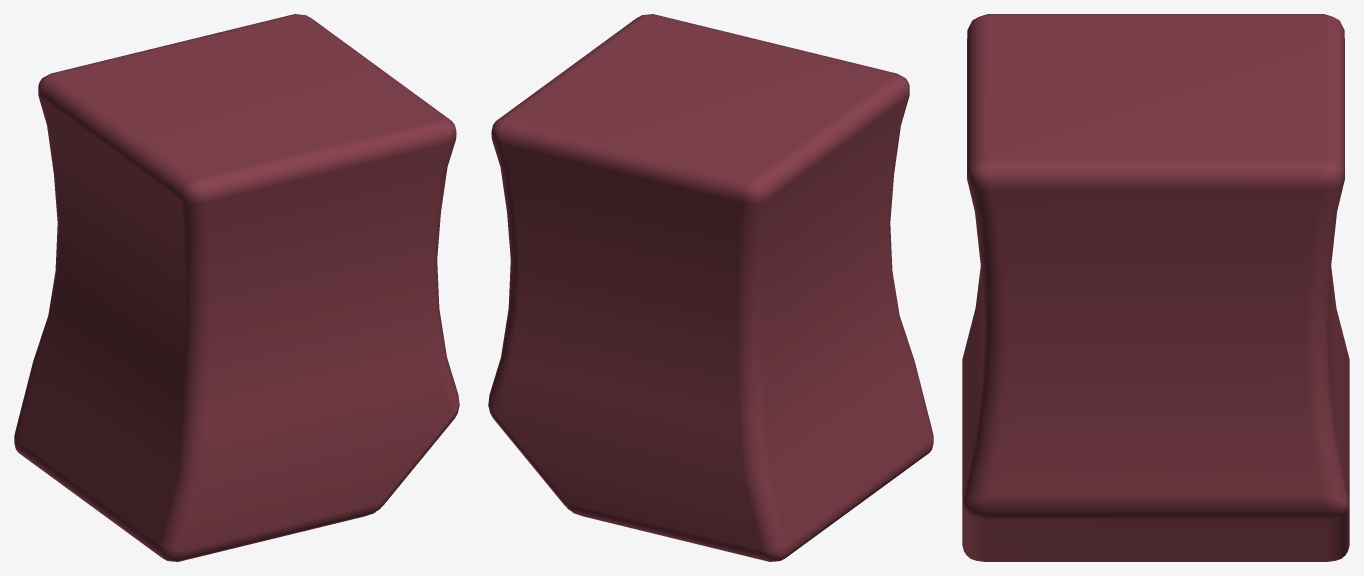
Rendered from SM_Building_02_part_01.fbx.
3 views of the same model, side by side, from view 1: azimuth 30°, elevation 25°; view 2: azimuth 150°, elevation 25°; view 3: azimuth 270°, elevation 25° (orthographic). The views are drawn at different scales.
Parts seen in each view (by area): view 1: SM_Building_02_Part01; view 2: SM_Building_02_Part01; view 3: SM_Building_02_Part01.
Boxes of the visible parts, x1,y1,x2,y2 form: SM_Building_02_Part01: (14, 14, 459, 561); SM_Building_02_Part01: (488, 14, 933, 561); SM_Building_02_Part01: (962, 14, 1349, 561).
Bounding box in the file's own units: 3999 × 4822 × 3778.
